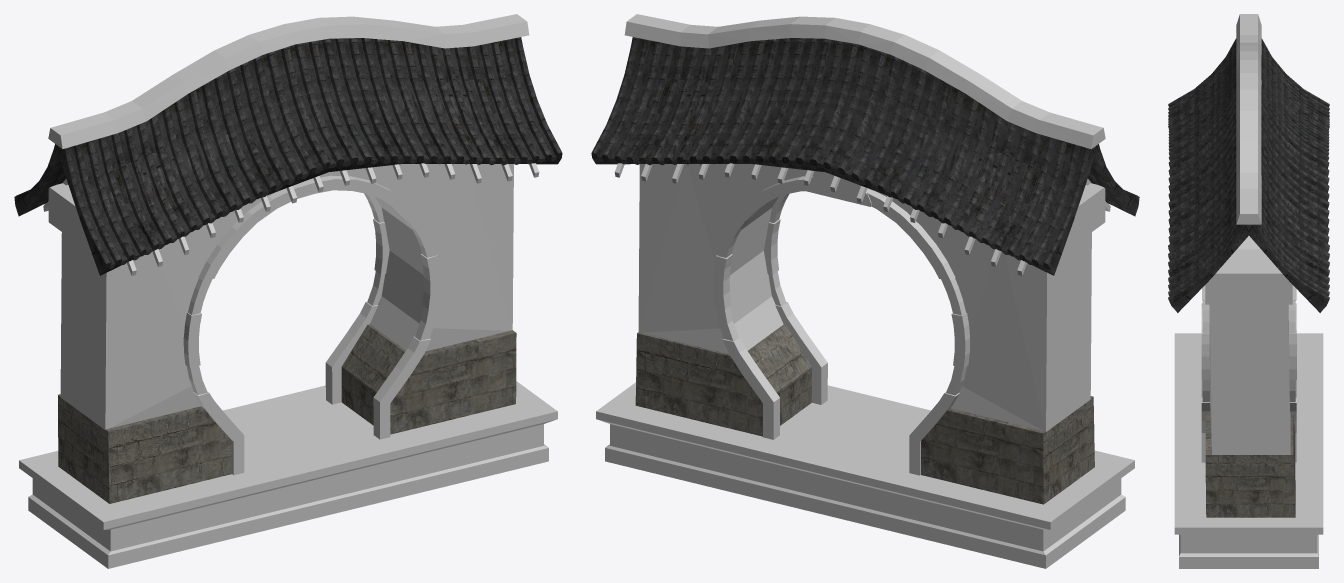
File: Arch.fbx
3 renders of one model, left to right at view 1: azimuth 30°, elevation 25°; view 2: azimuth 150°, elevation 25°; view 3: azimuth 270°, elevation 25°, orthographic. The views are drawn at different scales.
Parts seen in each view (by area): view 1: 3D_GongMen.mo; view 2: 3D_GongMen.mo; view 3: 3D_GongMen.mo.
Part boxes in pixels (x1,y1,x2,y2): 3D_GongMen.mo: (14,14,562,568); 3D_GongMen.mo: (591,14,1139,568); 3D_GongMen.mo: (1168,14,1329,568).
Bounding box in the file's own units: 755 × 708 × 258.
